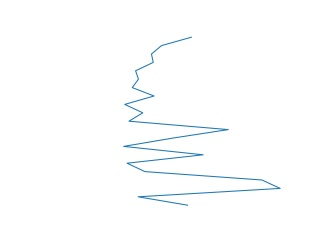crevasseRiverBedLagDeposit: (120, 35, 285, 209)
